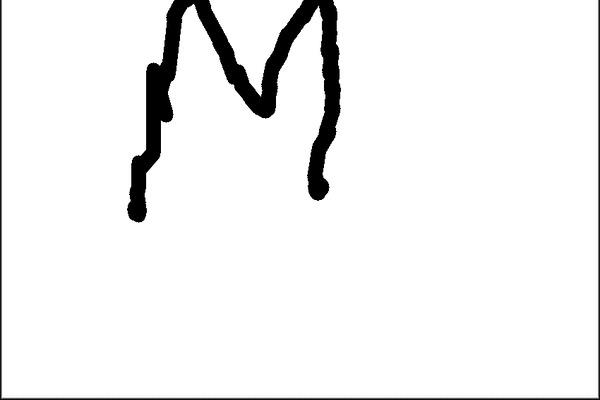M: (129, 2, 344, 225)
